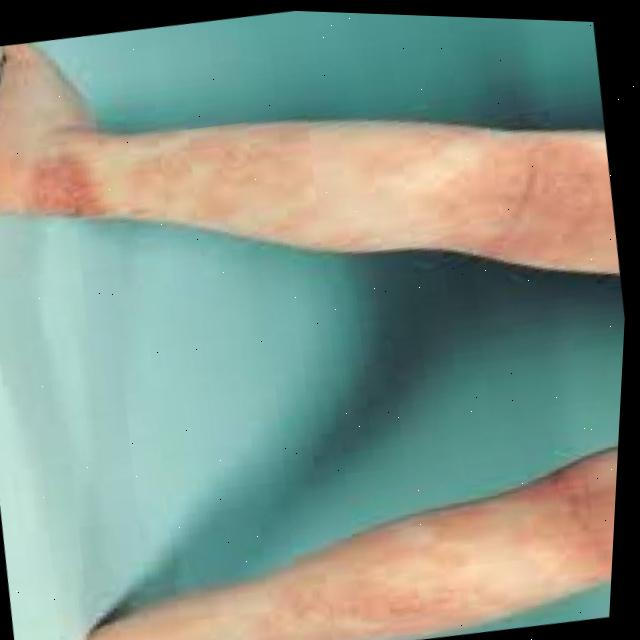Eczema: (54, 64, 627, 340), (280, 456, 617, 640)
